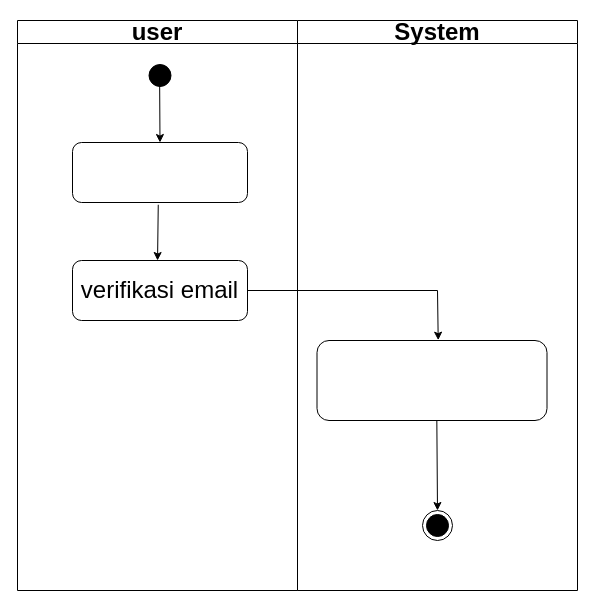
The diagram is 595 pixels wide and 608 high, and some of its shapes have lost their labels. Each missing label, with the centre of its shape:
"Navigasi profile" goes at [160,172].
"sistem mengirimkan tautan aktivasi" goes at [431,380].
